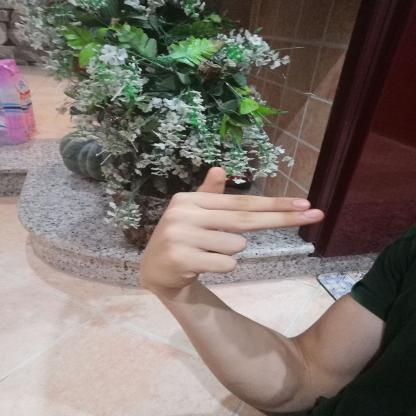GHAYN: (124, 159, 335, 298)
